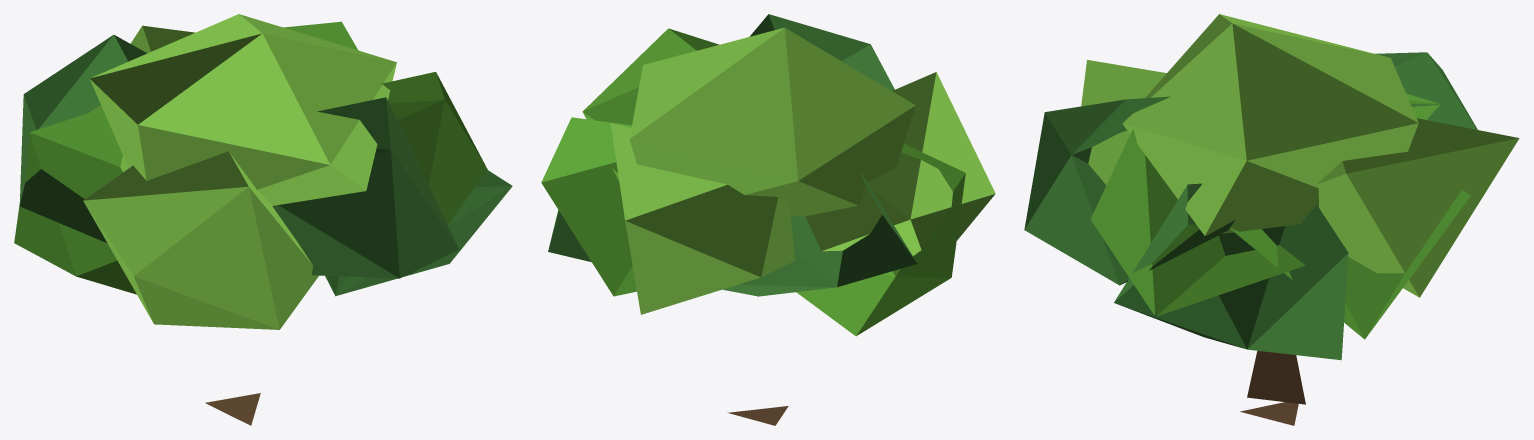
The model's file is tree_oak_2_lod2.glb.
3 renders of one model, left to right at view 1: azimuth 30°, elevation 25°; view 2: azimuth 150°, elevation 25°; view 3: azimuth 270°, elevation 25°, orthographic. The views are drawn at different scales.
Parts seen in each view (by area): view 1: tree_oak_2_lod2; view 2: tree_oak_2_lod2; view 3: tree_oak_2_lod2.
Part boxes in pixels (bbox=[...]): tree_oak_2_lod2: bbox=[14, 14, 512, 425]; tree_oak_2_lod2: bbox=[541, 14, 995, 425]; tree_oak_2_lod2: bbox=[1024, 14, 1519, 425].
Bounding box in the file's own units: 8.38 × 7.03 × 8.05.
